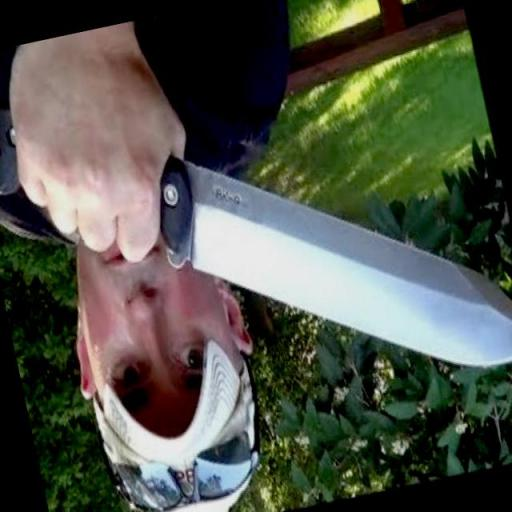knife: (9, 6, 512, 464)
